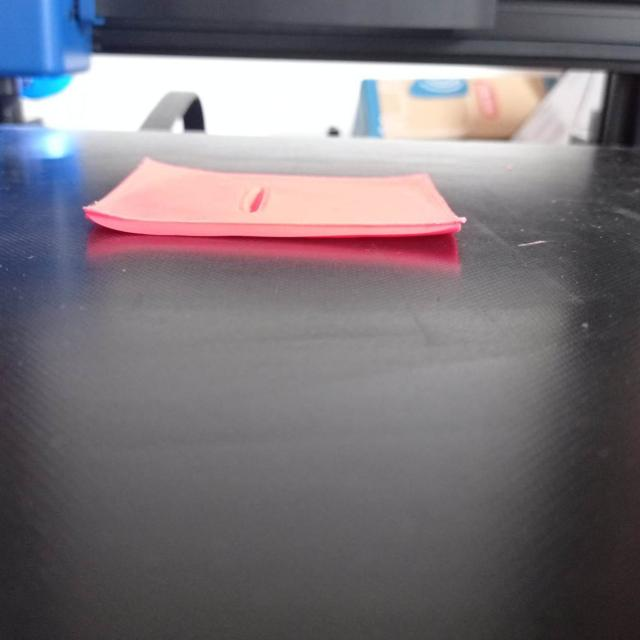warping: (71, 206, 138, 233), (406, 217, 466, 247)
